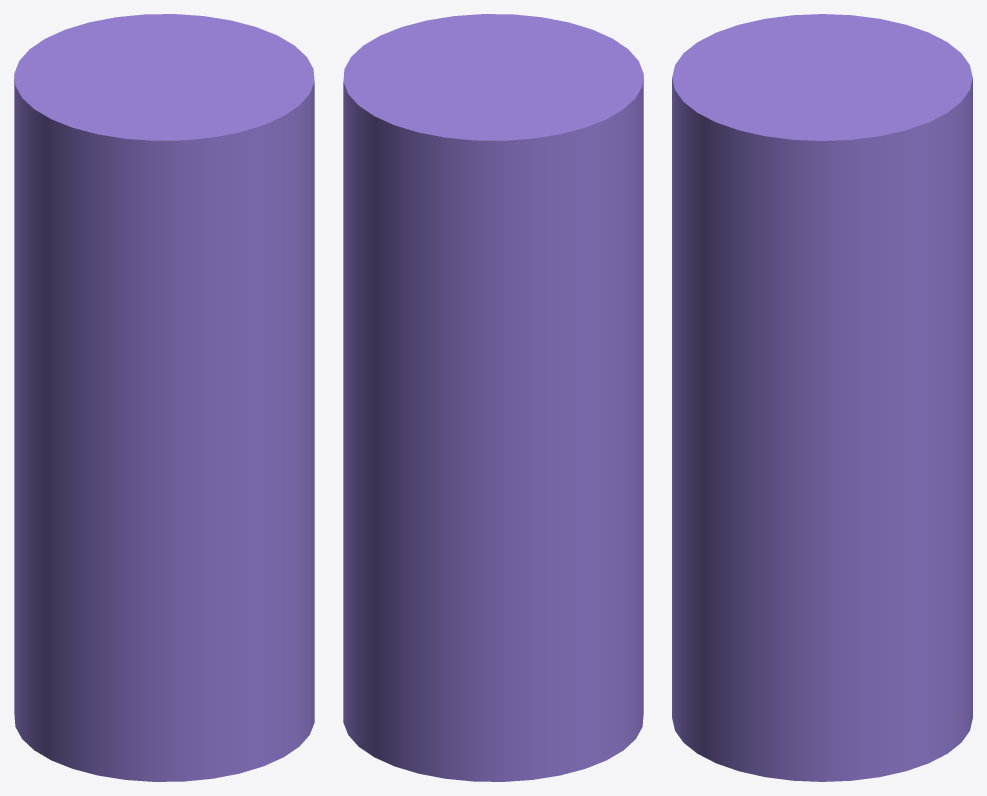
The model's file is Player.fbx.
3 views of the same model, side by side, from view 1: azimuth 30°, elevation 25°; view 2: azimuth 150°, elevation 25°; view 3: azimuth 270°, elevation 25° (orthographic).
Visible parts, largest first — view 1: Cylinder; view 2: Cylinder; view 3: Cylinder.
Part boxes in pixels (bbox=[...]): Cylinder: bbox=[14, 14, 314, 781]; Cylinder: bbox=[343, 14, 643, 781]; Cylinder: bbox=[672, 14, 972, 781].
Size of the model in its own units: 85.03 by 200 by 85.03.
